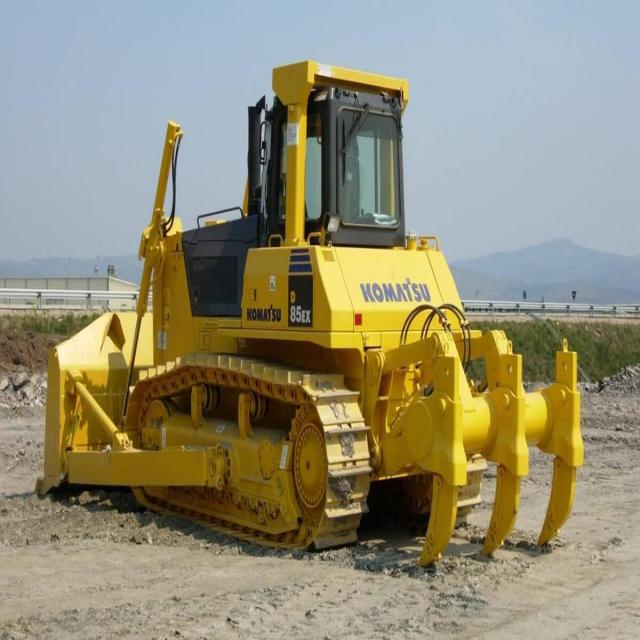Bulldozer: (37, 32, 595, 580)
